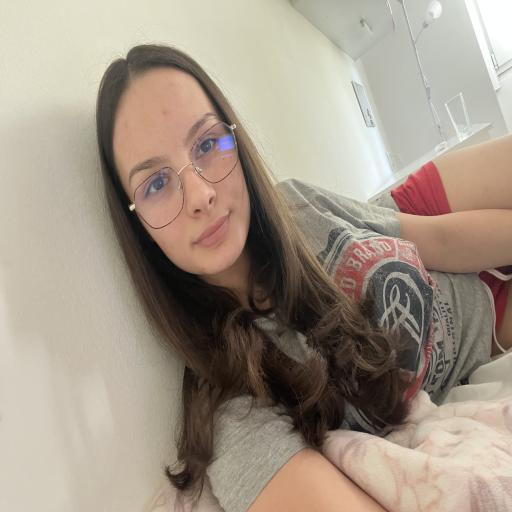marija: (102, 78, 254, 274)
